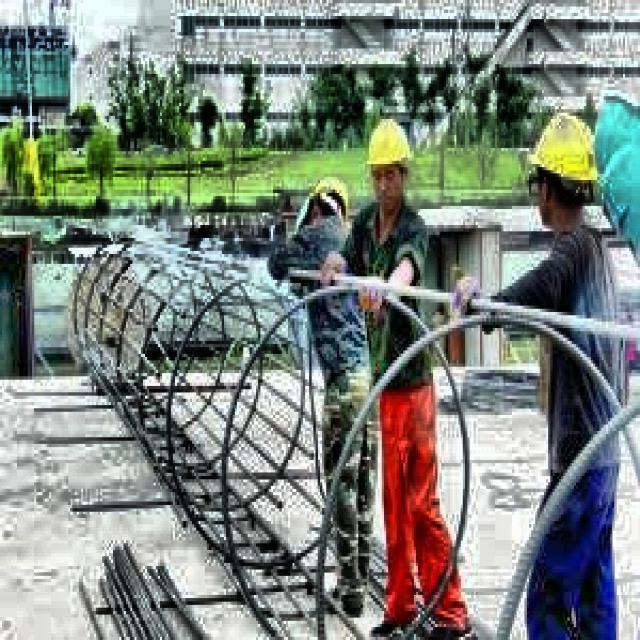helmet: (531, 103, 608, 241), (365, 109, 414, 222), (301, 167, 354, 248)
